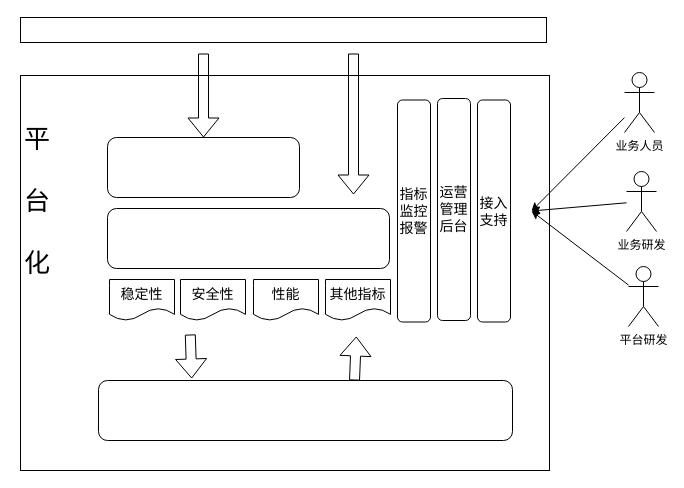
The diagram is 684 pixels wide and 488 high, and some of its shapes have lost their labels. The box of each missing label's shape, as (x1, y1, x2, y2) in pixels:
业务: (20, 16, 546, 42)
业务场景能力: (106, 136, 300, 198)
基础服务能力: (106, 208, 390, 268)
数据: (98, 380, 512, 440)
